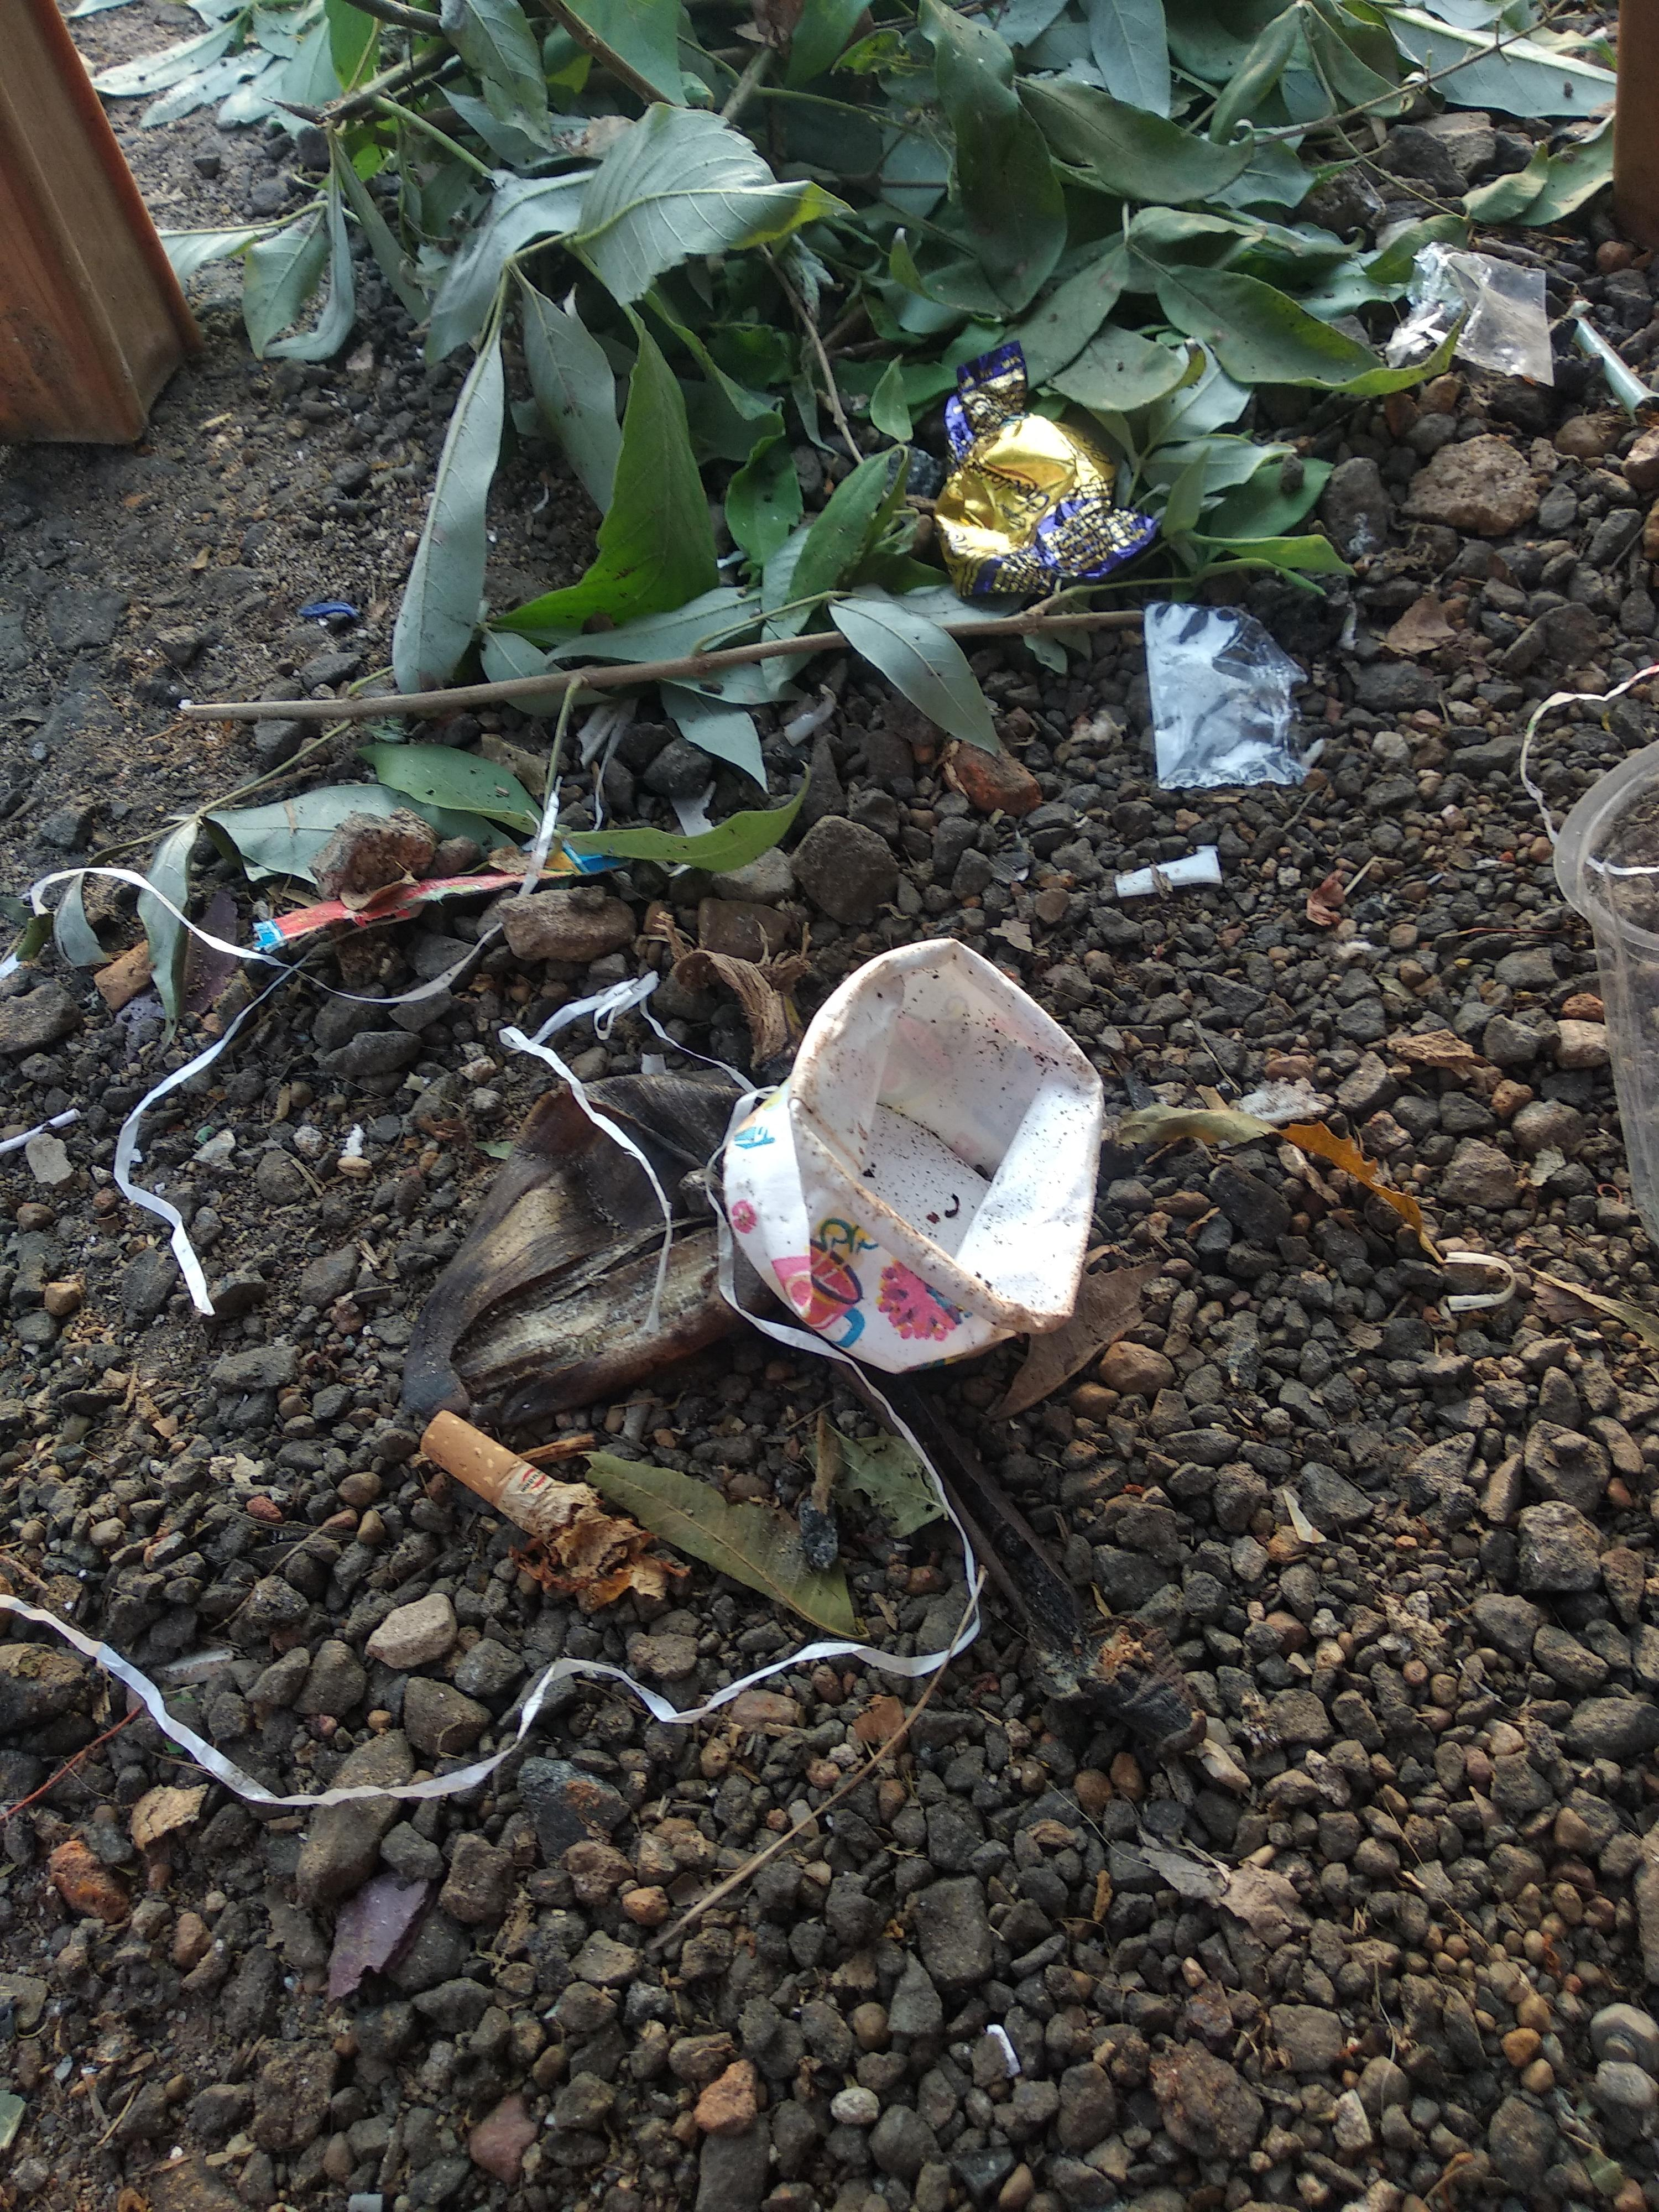organic: (15, 0, 1650, 1815)
